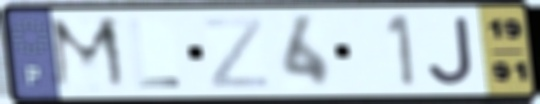1: (383, 11, 419, 91)
4: (277, 10, 337, 94)
J: (425, 14, 478, 88)
L: (125, 17, 184, 90)
M: (45, 14, 133, 94)
Z: (200, 15, 271, 90)
